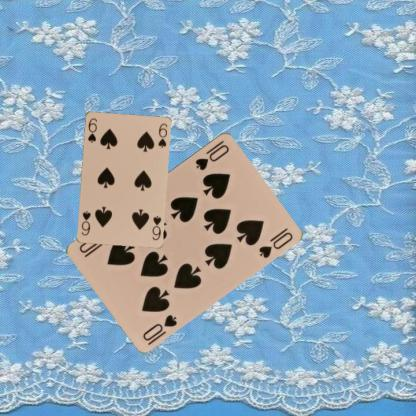10s: (192, 137, 230, 172), (140, 311, 178, 342)
6s: (85, 115, 98, 144), (150, 213, 162, 241)
